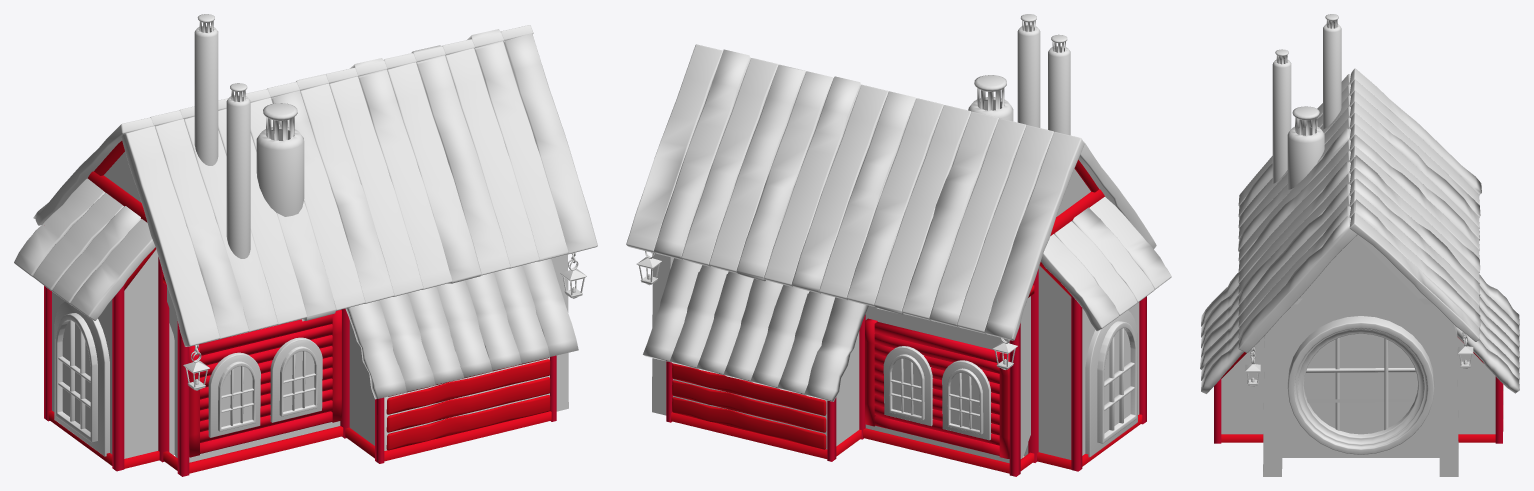
Rendered from House-NoBase.fbx.
The picture shows the model from 3 angles, left to right: view 1: azimuth 30°, elevation 25°; view 2: azimuth 150°, elevation 25°; view 3: azimuth 270°, elevation 25°; orthographic projection. The views are drawn at different scales.
Parts seen in each view (by area): view 1: House; view 2: House; view 3: House.
Part boxes in pixels (box(x1,y1,x2,y2)): House: box(14, 14, 597, 476); House: box(626, 14, 1171, 476); House: box(1200, 14, 1519, 476).
Size of the model in its own units: 1427 by 1255 by 1071.
